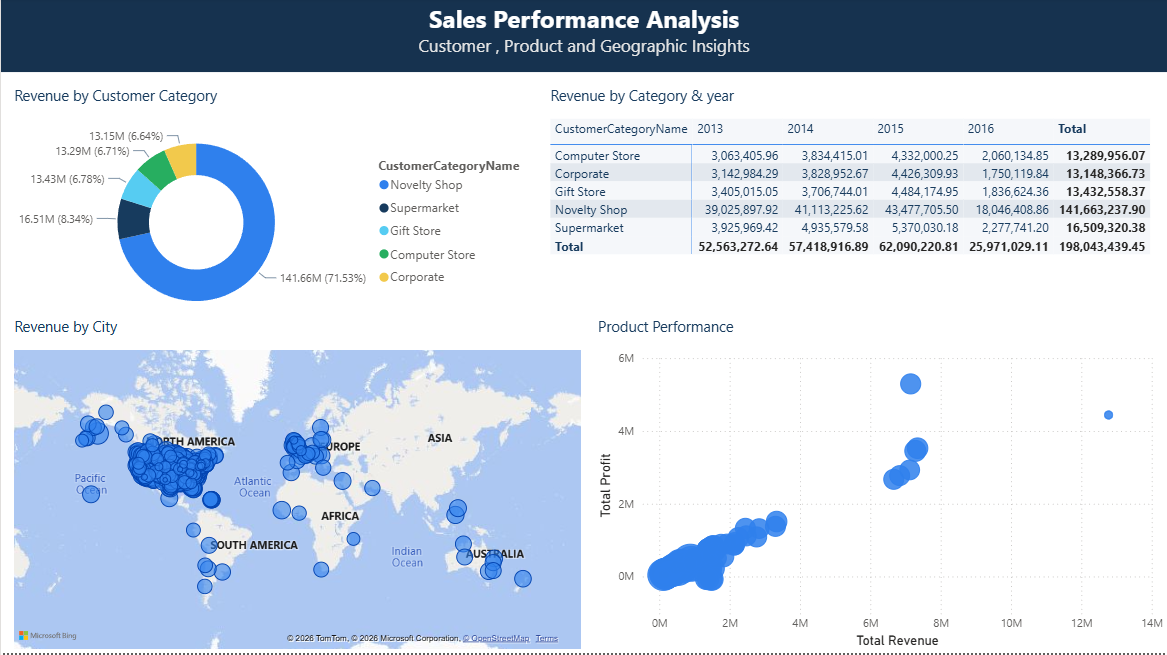

The page's visual inventory and layout, read from the dashboard file:
{"tool":"powerbi","page":{"name":"Sales Performance Analysis","canvas":[1280,720],"ordinal":1},"visuals":[{"type":"donutChart","title":" Revenue by Customer Category","fields":{"Y":["vw_SalesDetail.Total Revenue"],"Category":["DimCustomer.CustomerCategoryName"]},"box":[9.6,96.1,577.7,270],"z":0},{"type":"map","title":"Revenue by City","fields":{"Category":["DimCustomer.CityName"],"Size":["vw_SalesDetail.Total Revenue"]},"box":[9.6,349.5,632,370.5],"z":1000},{"type":"pivotTable","title":"Revenue by Category & year","fields":{"Rows":["DimCustomer.CustomerCategoryName"],"Columns":["DimDate.Year"],"Values":["vw_SalesDetail.Total Revenue"]},"box":[598.3,96.1,682,243],"z":2000},{"type":"scatterChart","title":"Product Performance ","fields":{"X":["vw_SalesDetail.Total Revenue"],"Category":["DimProduct.StockItemName"],"Size":["vw_SalesDetail.Total Quantity"],"Y":["vw_SalesDetail.Total Profit"]},"box":[650.4,350,630,370],"z":3000},{"type":"textbox","box":[0,0,1280.3,82.3],"z":4000}]}

Visuals, with their boxes in screenshot pixels (x1, y1, x2, y2), scaled from the page's 1280x720 canvas onto the 1167x655 screenshot:
" Revenue by Customer Category" donutChart: <box>9,87,535,333</box>
"Revenue by City" map: <box>9,318,585,654</box>
"Revenue by Category & year" pivotTable: <box>545,87,1166,308</box>
"Product Performance " scatterChart: <box>593,318,1166,654</box>
textbox: <box>0,0,1166,75</box>
